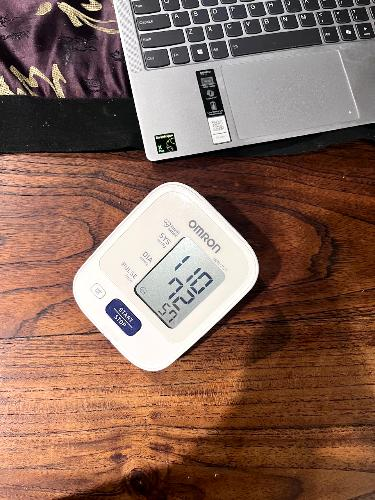bpm: (130, 232, 229, 331)
